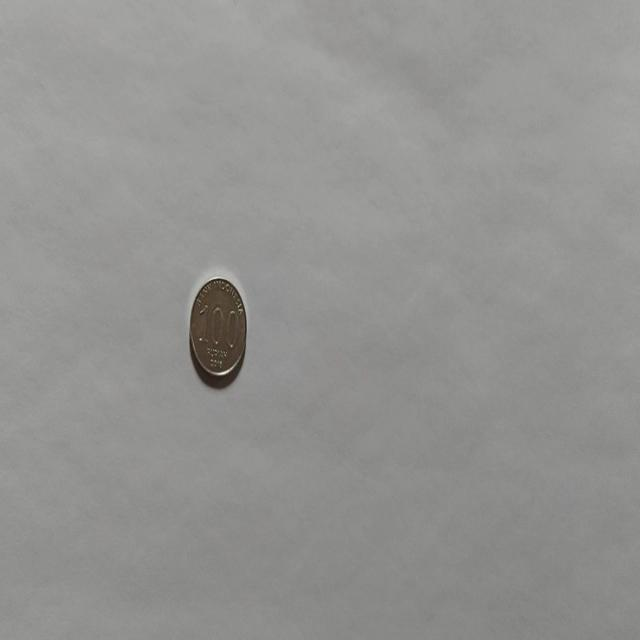seratus rupiah: (188, 274, 247, 382)
